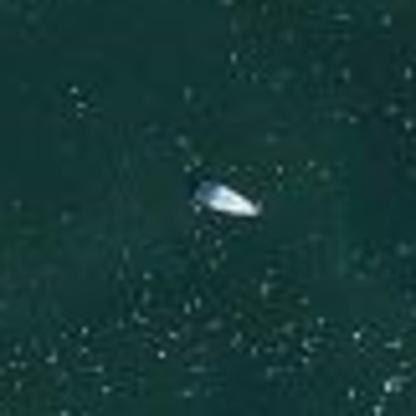ship: (197, 180, 268, 224)
